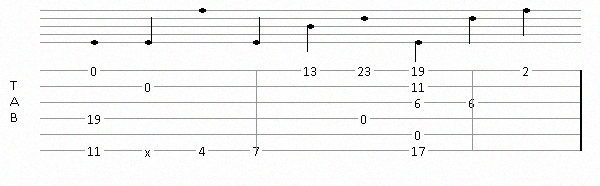0: (90, 64, 101, 77), (144, 80, 155, 93), (360, 112, 371, 125), (414, 128, 425, 141)
11: (87, 144, 105, 157), (411, 80, 429, 93)
13: (303, 64, 321, 77)
17: (411, 144, 429, 157)
19: (87, 112, 105, 125), (411, 64, 429, 77)
2: (522, 64, 533, 77)
23: (357, 64, 375, 77)
4: (198, 144, 209, 157)
6: (414, 96, 425, 109), (468, 96, 479, 109)
7: (252, 144, 263, 157)
x: (144, 145, 155, 156)
